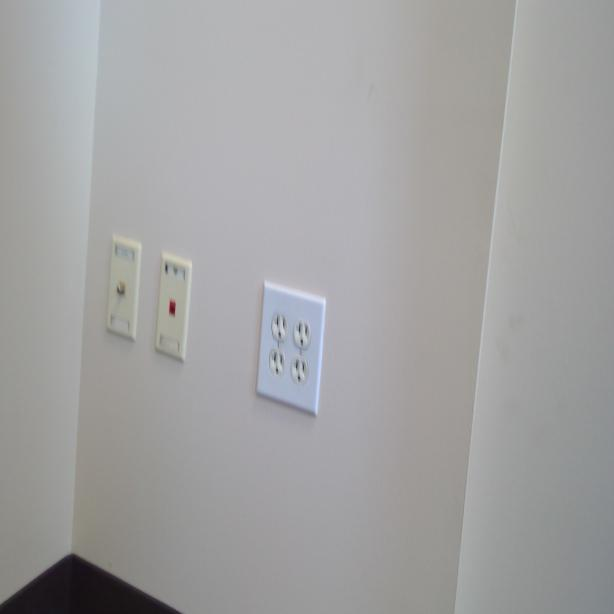typeb: (269, 312, 291, 349), (269, 350, 285, 382), (294, 318, 310, 350), (293, 358, 309, 385)
